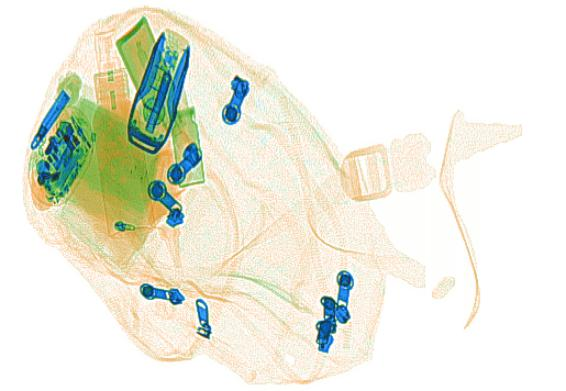plasticBottleWithaNozzle: (89, 26, 153, 238)
